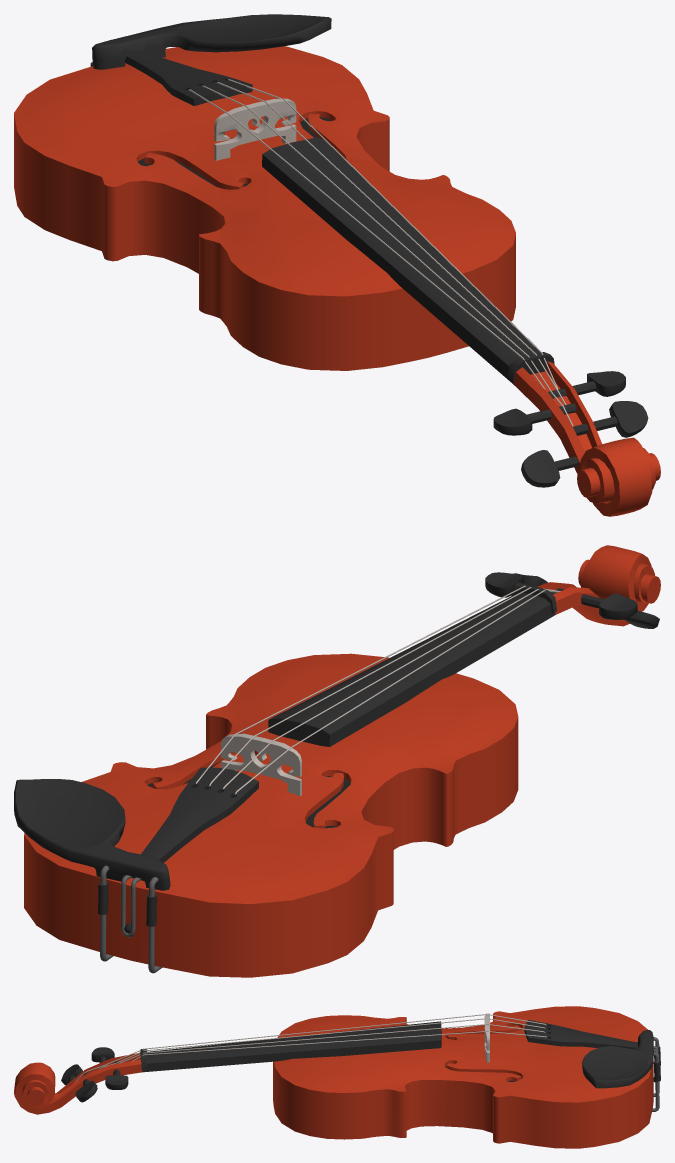
Rendered from Violin_01.fbx.
3 views of the same model, one above another, from view 1: azimuth 30°, elevation 25°; view 2: azimuth 150°, elevation 25°; view 3: azimuth 270°, elevation 25° (orthographic). The views are drawn at different scales.
Visible parts, largest first — view 1: Violin_01; view 2: Violin_01; view 3: Violin_01.
Part boxes in pixels (x1=…): Violin_01: x1=14, y1=14, x2=660, y2=516; Violin_01: x1=14, y1=545, x2=660, y2=977; Violin_01: x1=14, y1=1006, x2=660, y2=1148.
Size of the model in its own units: 0.3613 by 0.1545 by 1.01.
